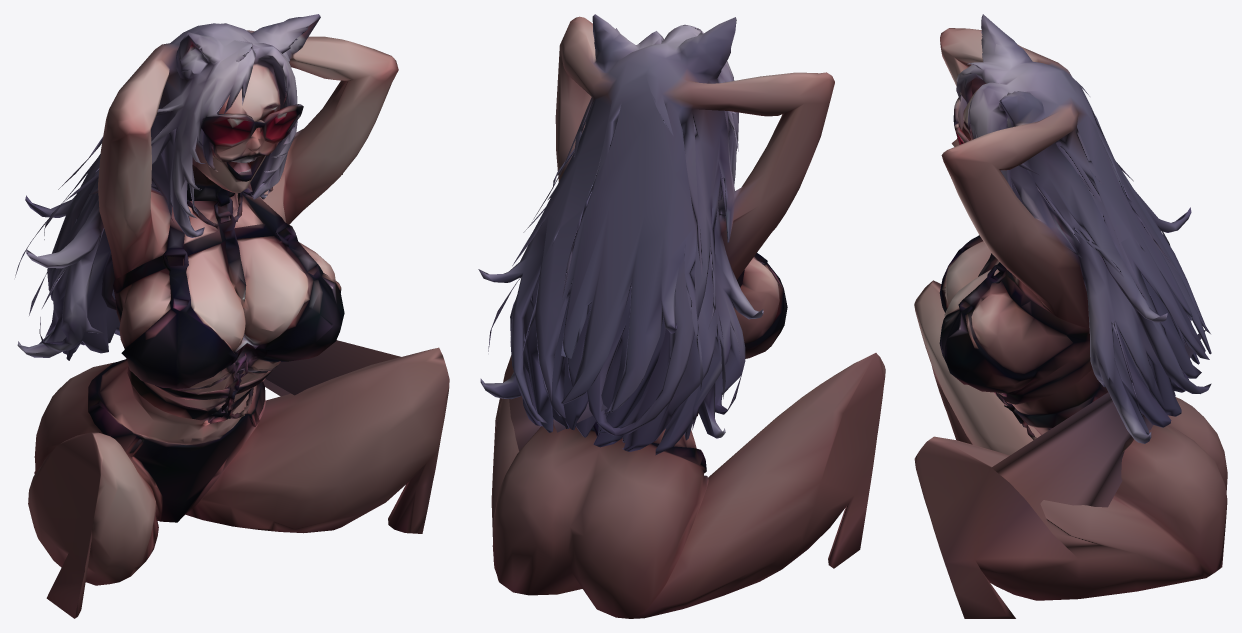
3 renders of one model, left to right at view 1: azimuth 30°, elevation 25°; view 2: azimuth 150°, elevation 25°; view 3: azimuth 270°, elevation 25°, orthographic. The views are drawn at different scales.
Parts seen in each view (by area): view 1: node_0; view 2: node_0; view 3: node_0.
Boxes of the visible parts, left/top/right/bottom form: node_0: left=15, top=14, right=449, bottom=618; node_0: left=478, top=14, right=885, bottom=618; node_0: left=914, top=14, right=1227, bottom=618.
Size of the model in its own units: 0.6327 by 0.9537 by 0.5372.
